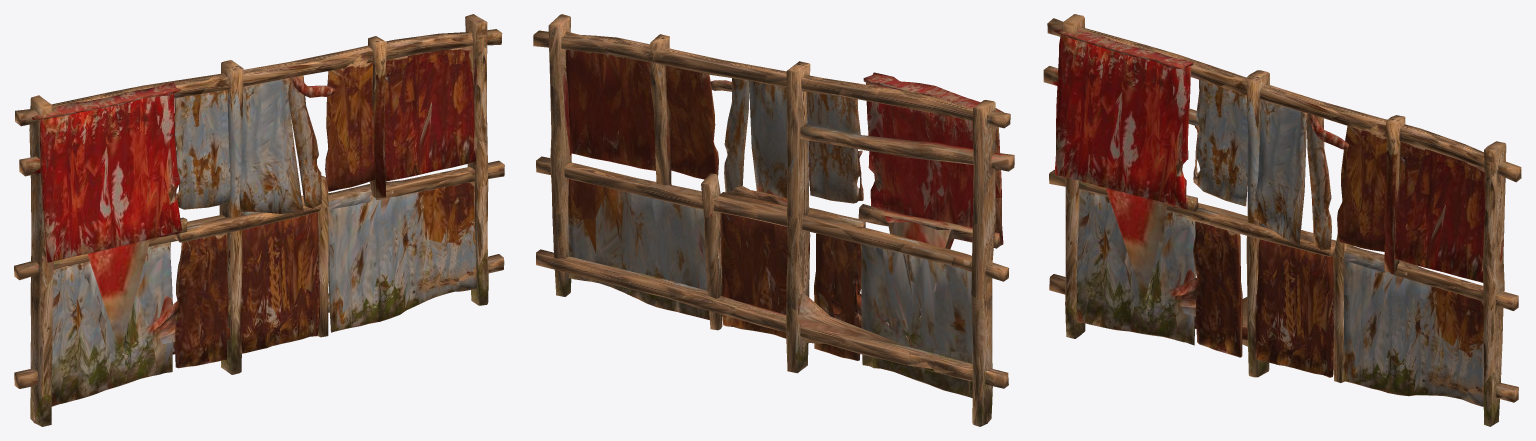
Rendered from roof_wall.glb.
3 views of the same model, side by side, from view 1: azimuth 30°, elevation 25°; view 2: azimuth 150°, elevation 25°; view 3: azimuth 330°, elevation 25° (orthographic). The views are drawn at different scales.
Visible parts, largest first — view 1: Mesh0; view 2: Mesh0; view 3: Mesh0.
Boxes of the visible parts, x1=… form: Mesh0: x1=14, y1=14, x2=504, y2=426; Mesh0: x1=533, y1=14, x2=1014, y2=426; Mesh0: x1=1043, y1=14, x2=1521, y2=426.
Bounding box in the file's own units: 1 × 0.6428 × 0.085.
1 material, 1 textured.
